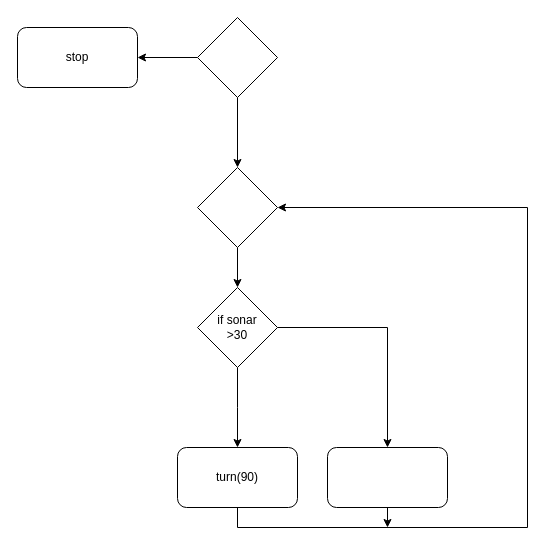
This 553x553 diagram has some shape labels left out. Each missing label, with the centre of its shape:
"drive()" goes at point 387,477.
"while lightsensor" goes at point 237,207.
